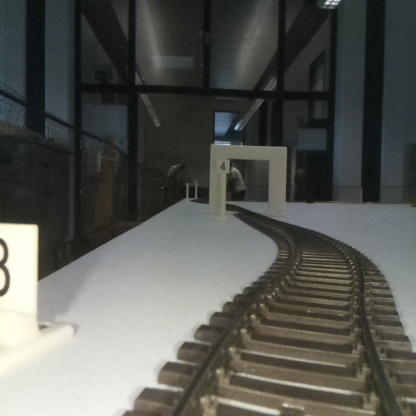white-info-4: (217, 158, 229, 221)
